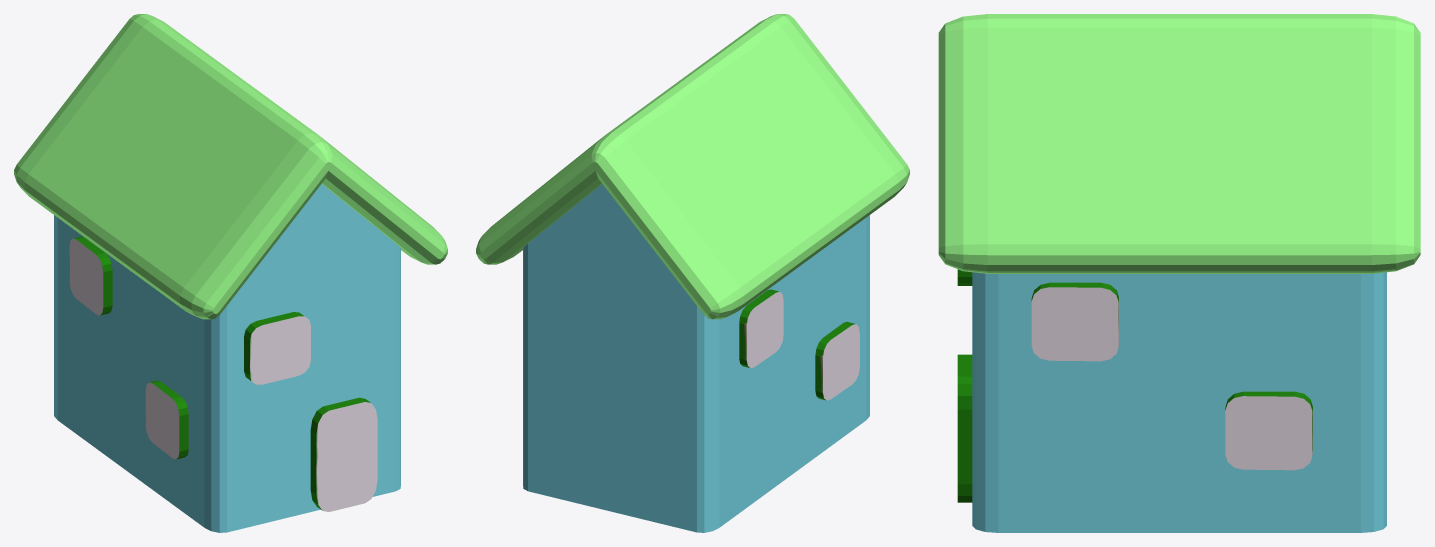
File: CASA2.fbx
3 renders of one model, left to right at view 1: azimuth 30°, elevation 25°; view 2: azimuth 150°, elevation 25°; view 3: azimuth 270°, elevation 25°, orthographic. The views are drawn at different scales.
Visible parts, largest first — view 1: Cube.001; view 2: Cube.001; view 3: Cube.001.
Boxes of the visible parts, x1=… form: Cube.001: x1=14, y1=14, x2=447, y2=532; Cube.001: x1=476, y1=14, x2=909, y2=532; Cube.001: x1=938, y1=14, x2=1420, y2=532.
Bounding box in the file's own units: 530 × 734 × 697.
Materials: 1 (1 with a texture image).
